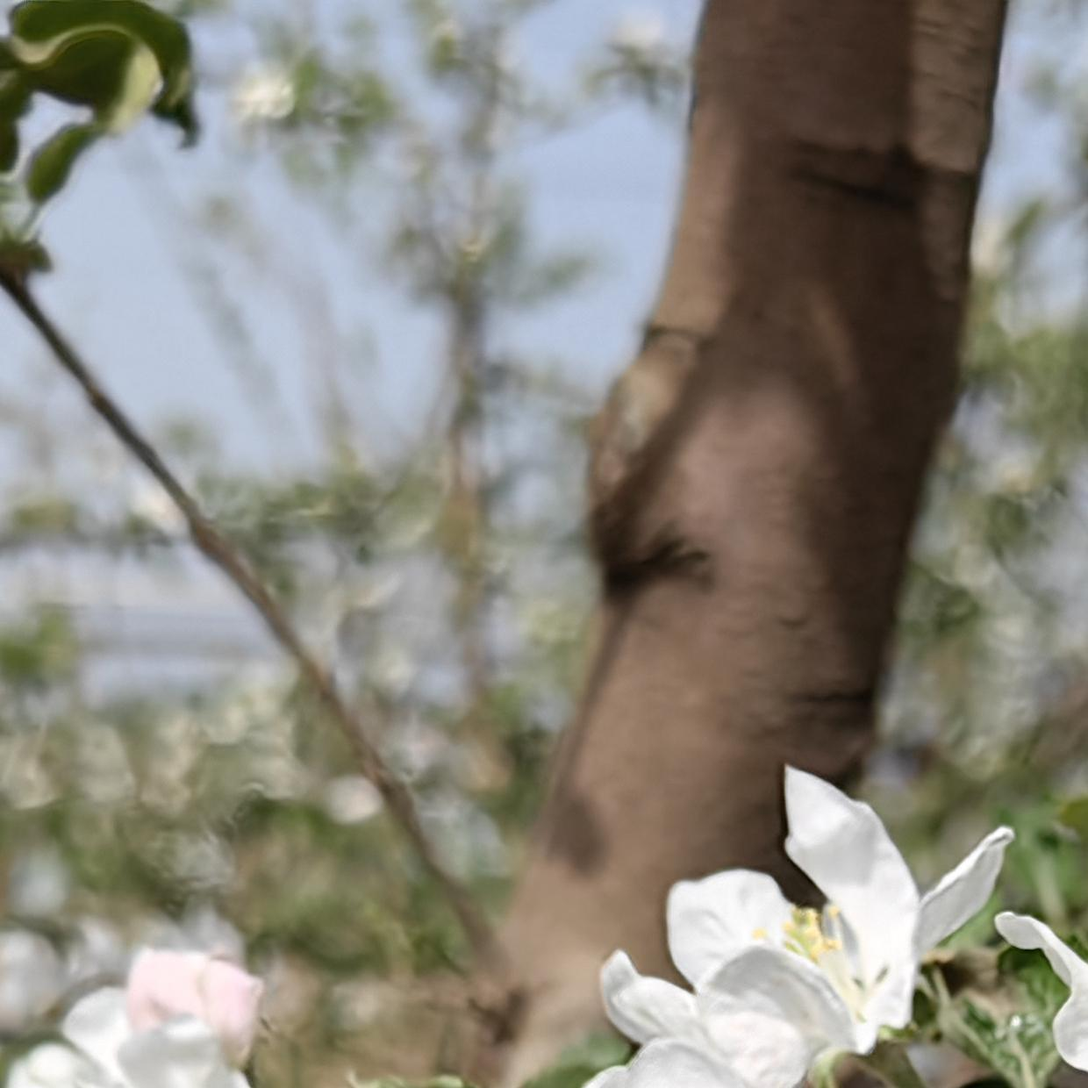apple_flower: (578, 769, 1088, 1088), (4, 946, 260, 1088)
